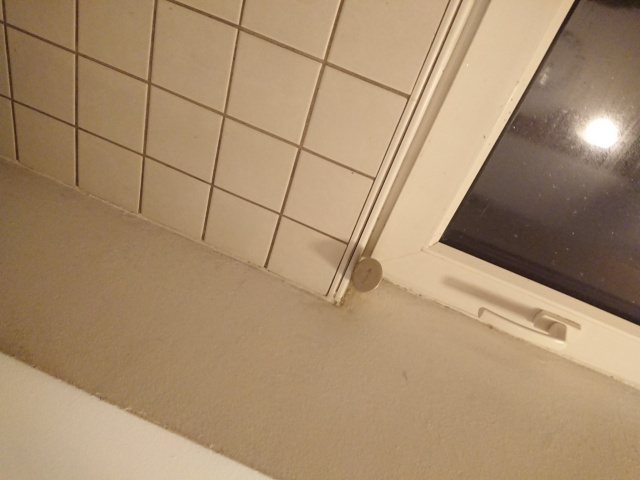Kotanyi Garlic Granules 70g: (350, 256, 384, 294)
